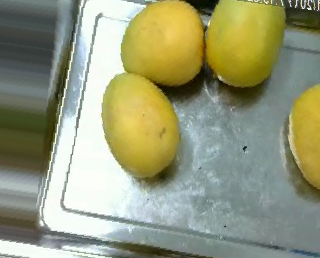Mango: (101, 73, 180, 181), (116, 0, 202, 84), (204, 1, 286, 88), (288, 83, 320, 191)
